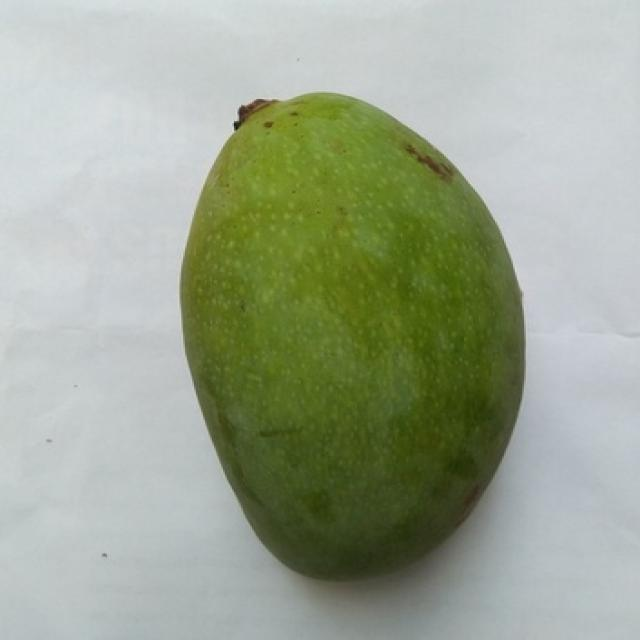Mango: (181, 93, 520, 576)
